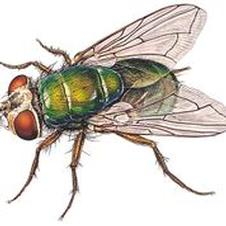green bottles flies: (1, 1, 225, 225)
